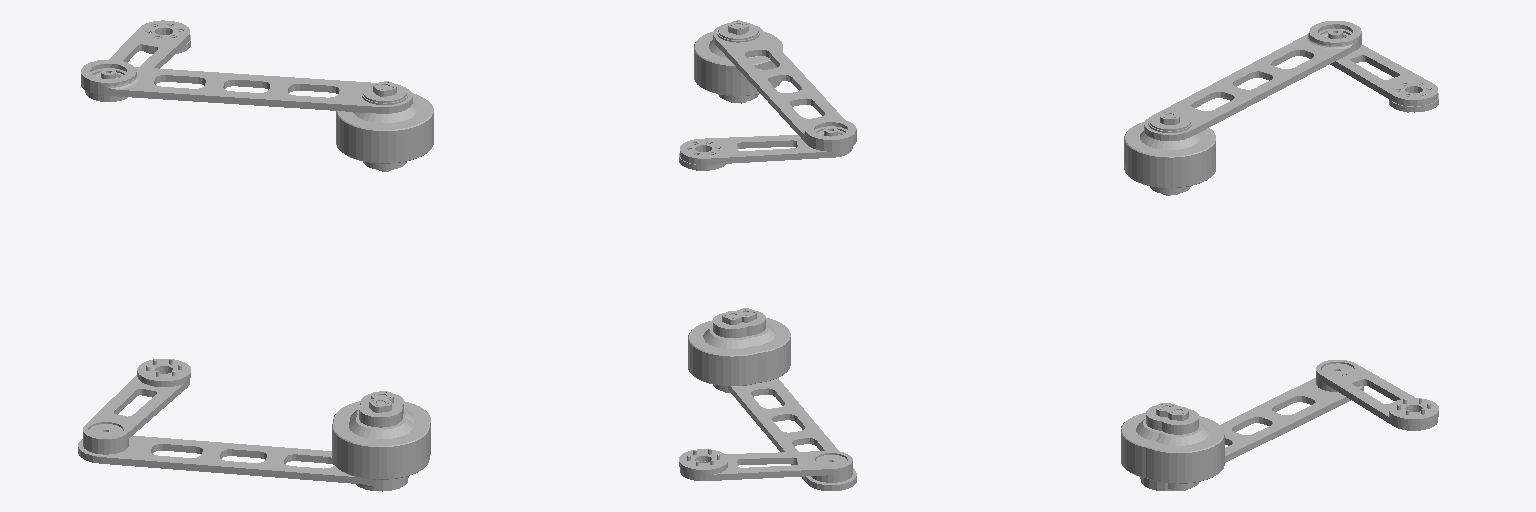
The robot description file, URDF, robot "main":
<?xml version="1.0" encoding="utf-8"?>
<!-- This URDF was automatically created by SolidWorks to URDF Exporter! Originally created by [author] ([email redacted]) 
     Commit Version: 1.6.0-4-g7f85cfe  Build Version: 1.6.7995.38578
     For more information, please see http://wiki.ros.org/sw_urdf_exporter -->
<robot name="main">
    <link name="base_link">
        <inertial>
            <origin xyz="-0.067218 1.1041 0.082533" rpy="0 0 0" />
            <mass value="9.25" />
            <inertia ixx="0.028386" ixy="-5.7075E-06" ixz="-9.8079E-06" iyy="0.041168" iyz="1.3954E-06" izz="0.062197" />
        </inertial>
        <visual>
            <origin xyz="0 0 0" rpy="0 0 0" />
            <geometry>
                <mesh filename="../meshes/base_link.STL" />
            </geometry>
            <material name="">
                <color rgba="0.75294 0.75294 0.75294 1" />
            </material>
        </visual>
        <collision>
            <origin xyz="0 0 0" rpy="0 0 0" />
            <geometry>
                <mesh filename="../meshes/base_link.STL" />
            </geometry>
        </collision>
    </link>
    
    <!-- 左腿结构 -->
    <joint name="lf0_Joint" type="revolute">
        <origin xyz="-0.16273 -0.039204 0.88016" rpy="1.5708 0 0.095234" />
        <parent link="base_link" />
        <child link="lf0_Link" />
        <axis xyz="0 1 0" />
        <limit lower="-1.57" upper="1.57" effort="100" velocity="3.0"/>
        <dynamics damping="0.1" friction="0"/>
    </joint>
    <link name="lf0_Link">
        <inertial>
            <origin xyz="-0.078475 0.018687 0.045086" rpy="0 0 0" />
            <mass value="0.3131" />
            <inertia ixx="0.00021536" ixy="-1.3936E-05" ixz="0.00024407" iyy="0.00070373" iyz="8.0063E-06" izz="0.00049996" />
        </inertial>
        <visual>
            <origin xyz="0 0 0" rpy="0 0 0" />
            <geometry>
                <mesh filename="../meshes/lf0_Link.STL" />
            </geometry>
            <material name="">
                <color rgba="0.75294 0.75294 0.75294 1" />
            </material>
        </visual>
        <collision>
            <origin xyz="0 0 0" rpy="0 0 0" />
            <geometry>
                <mesh filename="../meshes/lf0_Link.STL" />
            </geometry>
        </collision>
    </link>
    
    <joint name="lf1_Joint" type="revolute">
        <origin xyz="-0.13006 0 0.074724" rpy="0 -0.055633 0" />
        <parent link="lf0_Link" />
        <child link="lf1_Link" />
        <axis xyz="0 1 0" />
        <limit lower="-1.57" upper="1.57" effort="100" velocity="3.0"/>
        <dynamics damping="0.1" friction="0"/>
    </joint>
    <link name="lf1_Link">
        <inertial>
            <origin xyz="0.093195 0.00079988 0.08634" rpy="0 0 0" />
            <mass value="0.3802" />
            <inertia ixx="0.0019587" ixy="2.6727E-05" ixz="-0.0019591" iyy="0.0042067" iyz="2.4761E-05" izz="0.0022584" />
        </inertial>
        <visual>
            <origin xyz="0 0 0" rpy="0 0 0" />
            <geometry>
                <mesh filename="../meshes/lf1_Link.STL" />
            </geometry>
            <material name="">
                <color rgba="0.75294 0.75294 0.75294 1" />
            </material>
        </visual>
        <collision>
            <origin xyz="0 0 0" rpy="0 0 0" />
            <geometry>
                <mesh filename="../meshes/lf1_Link.STL" />
            </geometry>
        </collision>
    </link>
    
    <joint name="l_wheel_Joint" type="continuous">
        <origin xyz="0.22007 0 0.20388" rpy="0 -0.039601 0" />
        <parent link="lf1_Link" />
        <child link="l_wheel_Link" />
        <axis xyz="0 -1 0" />
        <limit effort="50" velocity="10.0"/>
        <dynamics damping="0.05" friction="0"/>
    </joint>
    <link name="l_wheel_Link">
        <inertial>
            <origin xyz="2.1344E-14 0.034473 1.843E-14" rpy="0 0 0" />
            <mass value="1.688" />
            <inertia ixx="0.0004649" ixy="-6.7289E-20" ixz="-4.0709E-21" iyy="0.00071923" iyz="-2.7657E-19" izz="0.0004649" />
        </inertial>
        <visual>
            <origin xyz="0 0 0" rpy="0 0 0" />
            <geometry>
                <mesh filename="../meshes/l_wheel_Link.STL" />
            </geometry>
            <material name="">
                <color rgba="0.75294 0.75294 0.75294 1" />
            </material>
        </visual>
        <collision>
            <origin xyz="0 0 0" rpy="0 0 0" />
            <geometry>
                <mesh filename="../meshes/l_wheel_Link.STL" />
            </geometry>
        </collision>
    </link>
    
    <!-- 右腿结构 -->
    <joint name="rf0_Joint" type="revolute">
        <origin xyz="-0.16273 -0.039204 1.30716" rpy="-1.5708 0 1.16" />
        <parent link="base_link" />
        <child link="rf0_Link" />
        <axis xyz="0 1 0" />
        <limit lower="-1.57" upper="1.57" effort="100" velocity="3.0"/>
        <dynamics damping="0.1" friction="0"/>
    </joint>
    <link name="rf0_Link">
        <inertial>
            <origin xyz="-0.078475 -0.0026859 0.045086" rpy="0 0 0" />
            <mass value="0.3131" />
            <inertia ixx="0.00021536" ixy="-1.3936E-05" ixz="0.00024407" iyy="0.00070373" iyz="8.0063E-06" izz="0.00049996" />
        </inertial>
        <visual>
            <origin xyz="0 0 0" rpy="0 0 0" />
            <geometry>
                <mesh filename="../meshes/rf0_Link.STL" />
            </geometry>
            <material name="">
                <color rgba="0.75294 0.75294 0.75294 1" />
            </material>
        </visual>
        <collision>
            <origin xyz="0 0 0" rpy="0 0 0" />
            <geometry>
                <mesh filename="../meshes/rf0_Link.STL" />
            </geometry>
        </collision>
    </link>
    
    <joint name="rf1_Joint" type="revolute">
        <origin xyz="-0.13006 -0.01 0.074724" rpy="0 -0.55633 0" />
        <parent link="rf0_Link" />
        <child link="rf1_Link" />
        <axis xyz="0 1 0" />
        <limit lower="-1.57" upper="1.57" effort="100" velocity="3.0"/>
        <dynamics damping="0.1" friction="0"/>
    </joint>
    <link name="rf1_Link">
        <inertial>
            <origin xyz="-0.12688 -0.0018226 -0.11754" rpy="0 0 0" />
            <mass value="0.3802" />
            <inertia ixx="0.0019587" ixy="2.6727E-05" ixz="-0.0019591" iyy="0.0042067" iyz="2.4761E-05" izz="0.0022584" />
        </inertial>
        <visual>
            <origin xyz="0 0 0" rpy="0 0 0" />
            <geometry>
                <mesh filename="../meshes/rf1_Link.STL" />
            </geometry>
            <material name="">
                <color rgba="0.75294 0.75294 0.75294 1" />
            </material>
        </visual>
        <collision>
            <origin xyz="0 0 0" rpy="0 0 0" />
            <geometry>
                <mesh filename="../meshes/rf1_Link.STL" />
            </geometry>
        </collision>
    </link>
    
    <joint name="r_wheel_Joint" type="continuous">
        <origin xyz="-0.22007 0 -0.20388" rpy="0 -0.039601 3.14" />
        <parent link="rf1_Link" />
        <child link="r_wheel_Link" />
        <axis xyz="0 1 0" />
        <limit effort="50" velocity="10.0"/>
        <dynamics damping="0.05" friction="0"/>
    </joint>
    <link name="r_wheel_Link">
        <inertial>
            <origin xyz="1.8978E-14 -0.03185 1.8707E-14" rpy="0 0 0" />
            <mass value="1.688" />
            <inertia ixx="0.0004649" ixy="-6.7878E-20" ixz="5.4967E-21" iyy="0.00071923" iyz="-2.9606E-19" izz="0.0004649" />
        </inertial>
        <visual>
            <origin xyz="0 0 0" rpy="0 0 0" />
            <geometry>
                <mesh filename="../meshes/r_wheel_Link.STL" />
            </geometry>
            <material name="">
                <color rgba="0.75294 0.75294 0.75294 1" />
            </material>
        </visual>
        <collision>
            <origin xyz="0 0 0" rpy="0 0 0" />
            <geometry>
                <mesh filename="../meshes/r_wheel_Link.STL" />
            </geometry>
        </collision>
    </link>
</robot>

--- Render facts (derived) ---
Views: 3 orthographic renders of the robot side by side, from view 1: azimuth 30°, elevation 25°; view 2: azimuth 150°, elevation 25°; view 3: azimuth 270°, elevation 25°.
Robot: main — 7 links, 6 joints (4 revolute, 2 continuous); root link base_link; default pose: every joint at zero.
Links seen in each view (by area): view 1: rf1_Link, lf1_Link, l_wheel_Link, r_wheel_Link, lf0_Link, rf0_Link, base_link; view 2: rf1_Link, lf0_Link, base_link, lf1_Link, rf0_Link, r_wheel_Link, l_wheel_Link; view 3: rf1_Link, r_wheel_Link, base_link, lf1_Link, lf0_Link, rf0_Link, l_wheel_Link.
Link boxes in pixels (x1,y1,x2,y2): rf1_Link: [81, 60, 412, 113]; lf1_Link: [78, 436, 408, 491]; l_wheel_Link: [332, 397, 429, 479]; r_wheel_Link: [336, 81, 433, 171]; lf0_Link: [83, 359, 190, 454]; rf0_Link: [85, 20, 190, 101]; base_link: [333, 391, 430, 454]; rf1_Link: [713, 24, 856, 151]; lf0_Link: [679, 449, 852, 482]; base_link: [688, 311, 757, 392]; lf1_Link: [728, 378, 856, 490]; rf0_Link: [679, 126, 852, 170]; r_wheel_Link: [694, 20, 782, 103]; l_wheel_Link: [702, 308, 790, 382]; rf1_Link: [1144, 21, 1361, 140]; r_wheel_Link: [1124, 111, 1215, 195]; base_link: [1146, 407, 1224, 490]; lf1_Link: [1140, 371, 1363, 490]; lf0_Link: [1316, 360, 1438, 430]; rf0_Link: [1319, 28, 1438, 112]; l_wheel_Link: [1121, 403, 1211, 477].
Size in the robot's own frame: 0.32 by 0.3632 by 0.4664 metres.
7 mesh visuals loaded from 7 distinct referenced files (7 binary STL).
